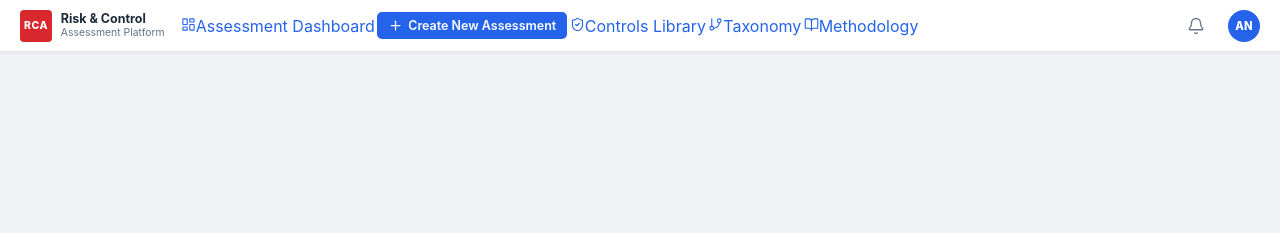
it: TopNav — user dropdown › opens dropdown on avatar click
The width and height of the screenshot is (1280, 233).
Click the button "AN" at (1244, 26), box [1228,10,1260,42]
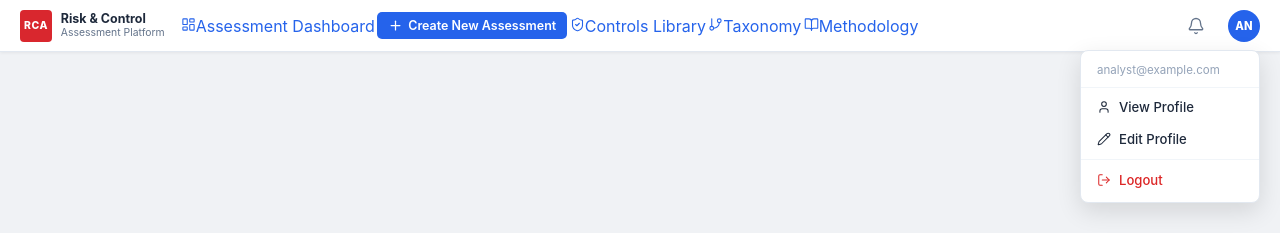
Result: the button "Logout" is shown at [1081,164,1259,196]
Result: the button "View Profile" is shown at [1081,91,1259,123]
Result: the button "Edit Profile" is shown at [1081,123,1259,155]
